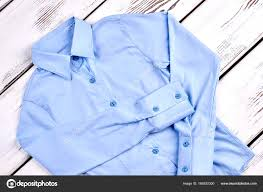F_shirt: (16, 17, 254, 179)
